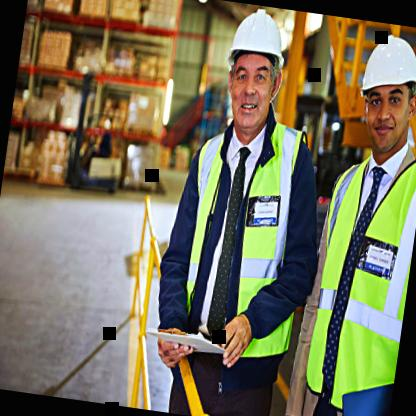helmet: (209, 1, 300, 142), (336, 27, 416, 163)
